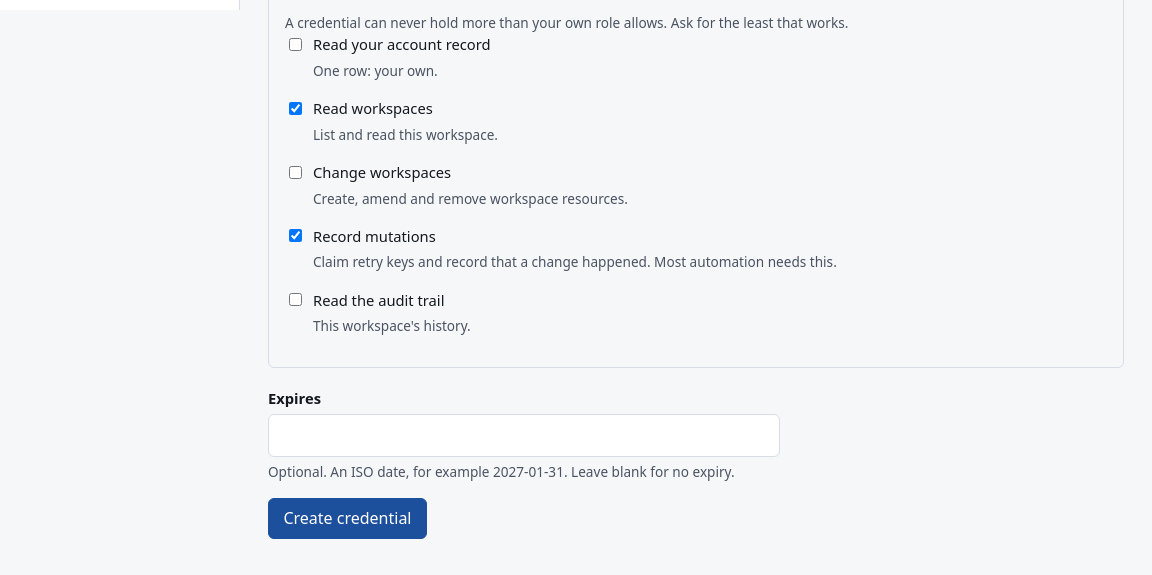
Test case: issuing › removes the secret from the page when dismissed, and does not bring it back
(page scrolled)
Click the button "Create credential": (347, 518) x1=268 y1=498 x2=427 y2=539
(page scrolled)
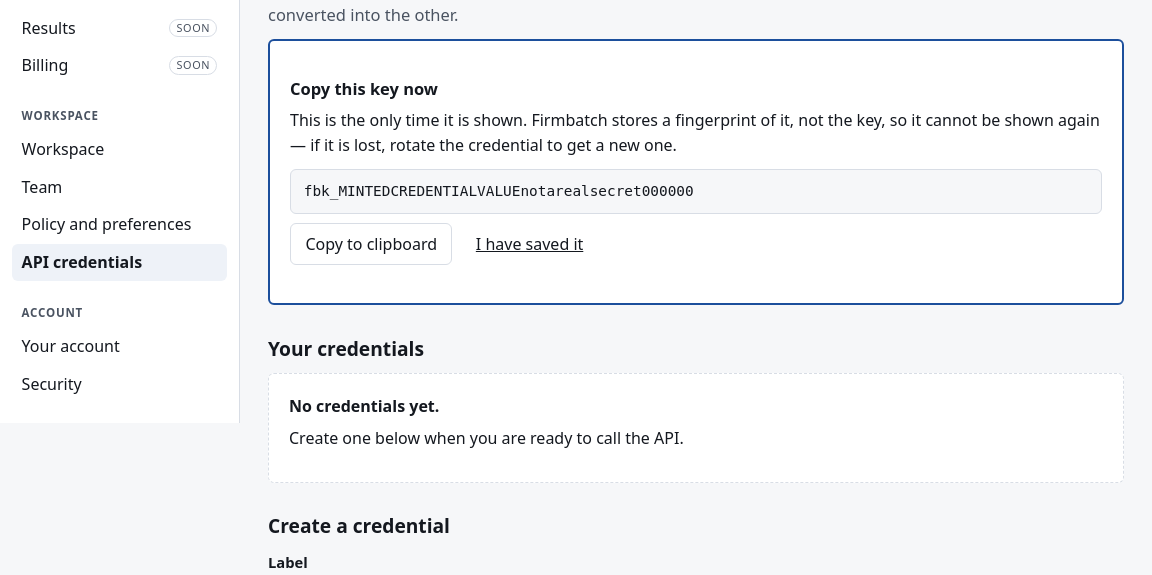
Expected: the message "Copy this key now" is shown, x1=268 y1=39 x2=1124 y2=305
Click the button "I have saved it": (530, 244) x1=460 y1=223 x2=599 y2=265
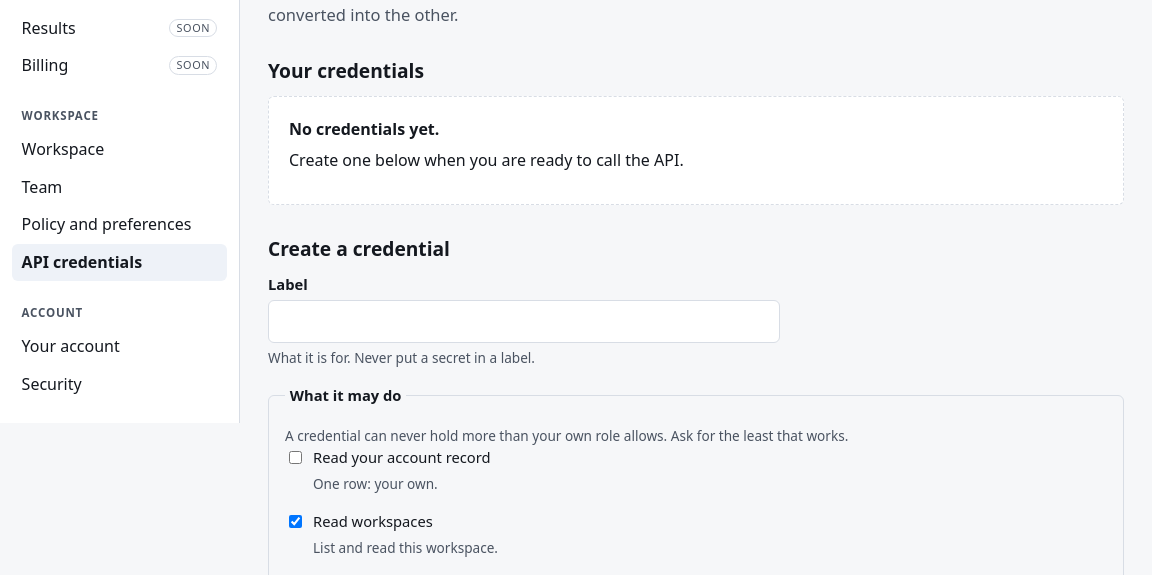
Expected: the text "fbk_MINTEDCREDENTIALVALUEnotarealsecret000000" is gone
